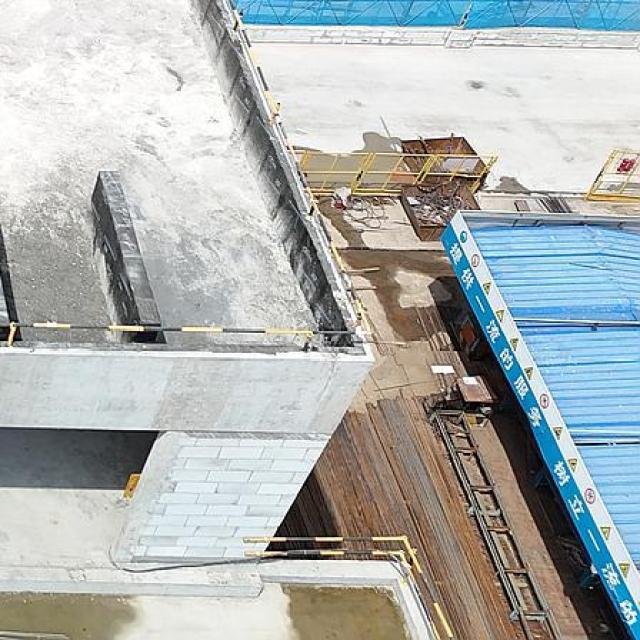edge_guardrail: (0, 0, 376, 353), (243, 533, 458, 640)
